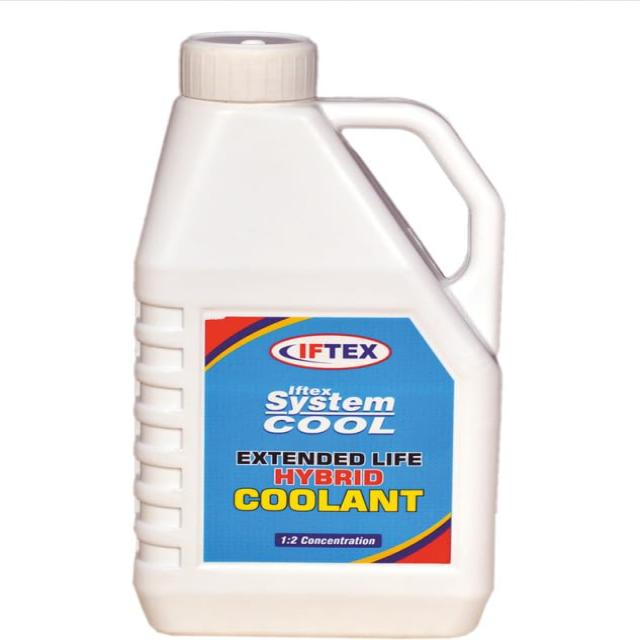coolant: (135, 13, 511, 640)
